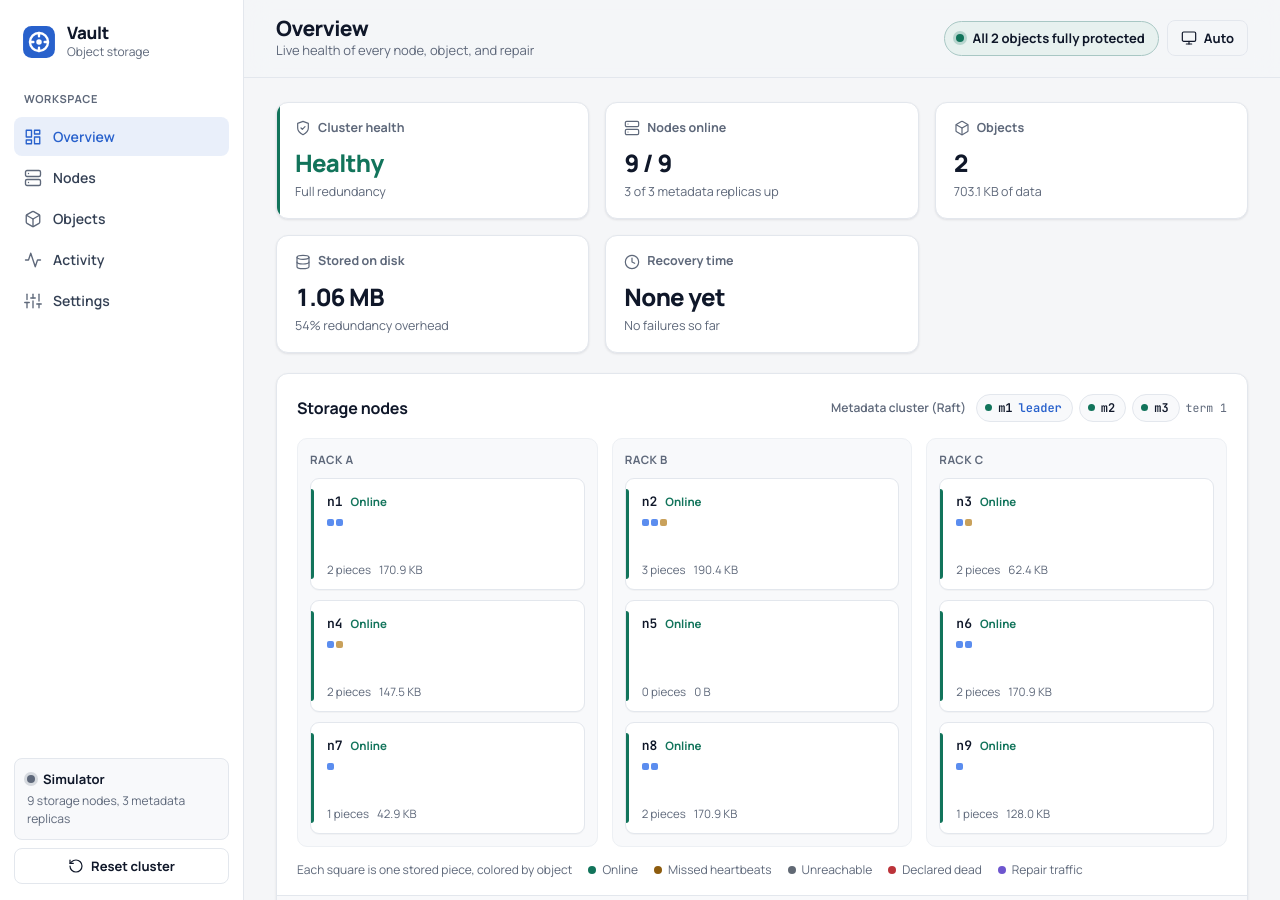
it: <App /> › losing two metadata nodes pauses writes and says so
The width and height of the screenshot is (1280, 900).
Click the button with aria-label "Metadata node m1" at (1024, 408), box [976,394,1073,422]
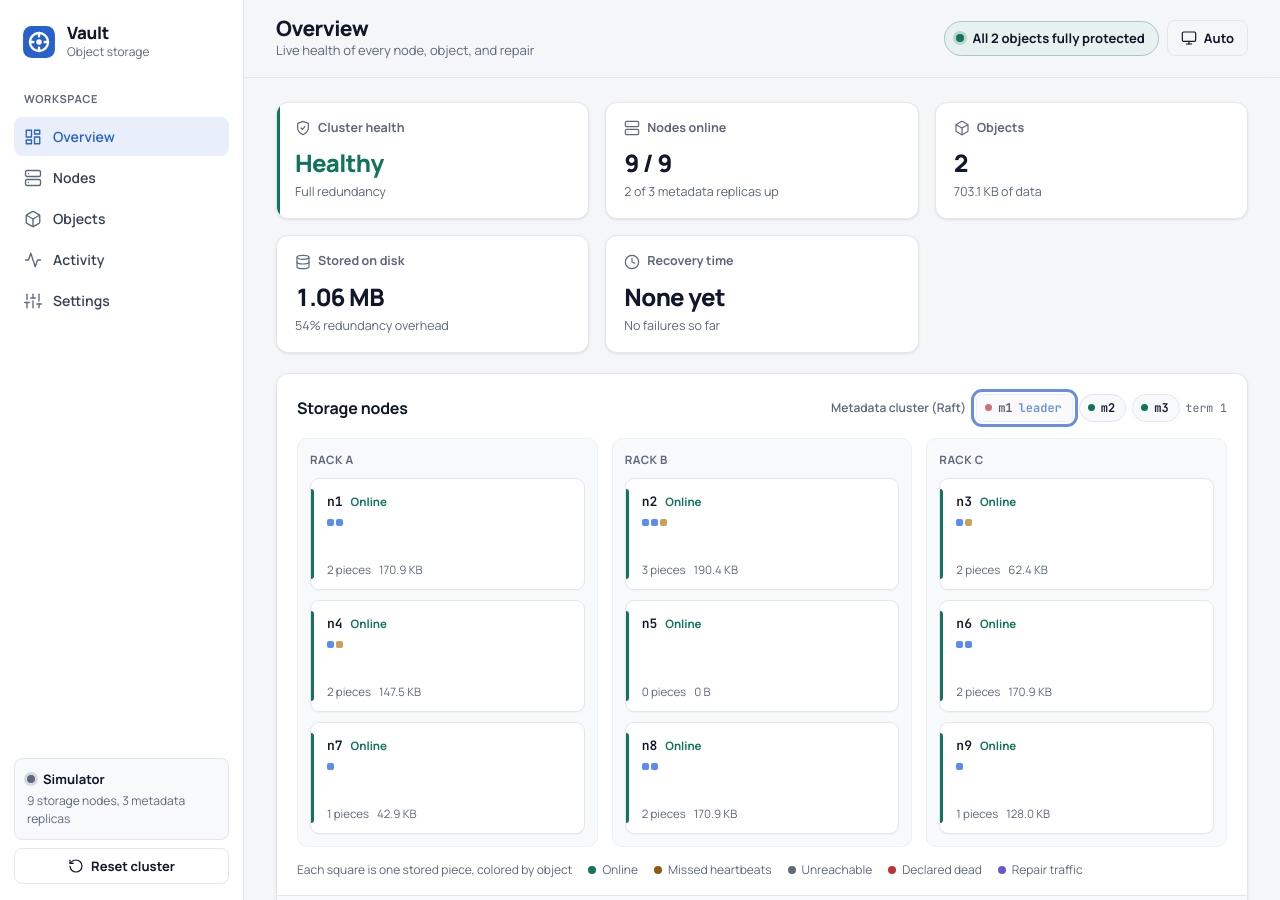
Click the button named "Metadata node m2" at (1102, 408), box [1079,394,1126,422]
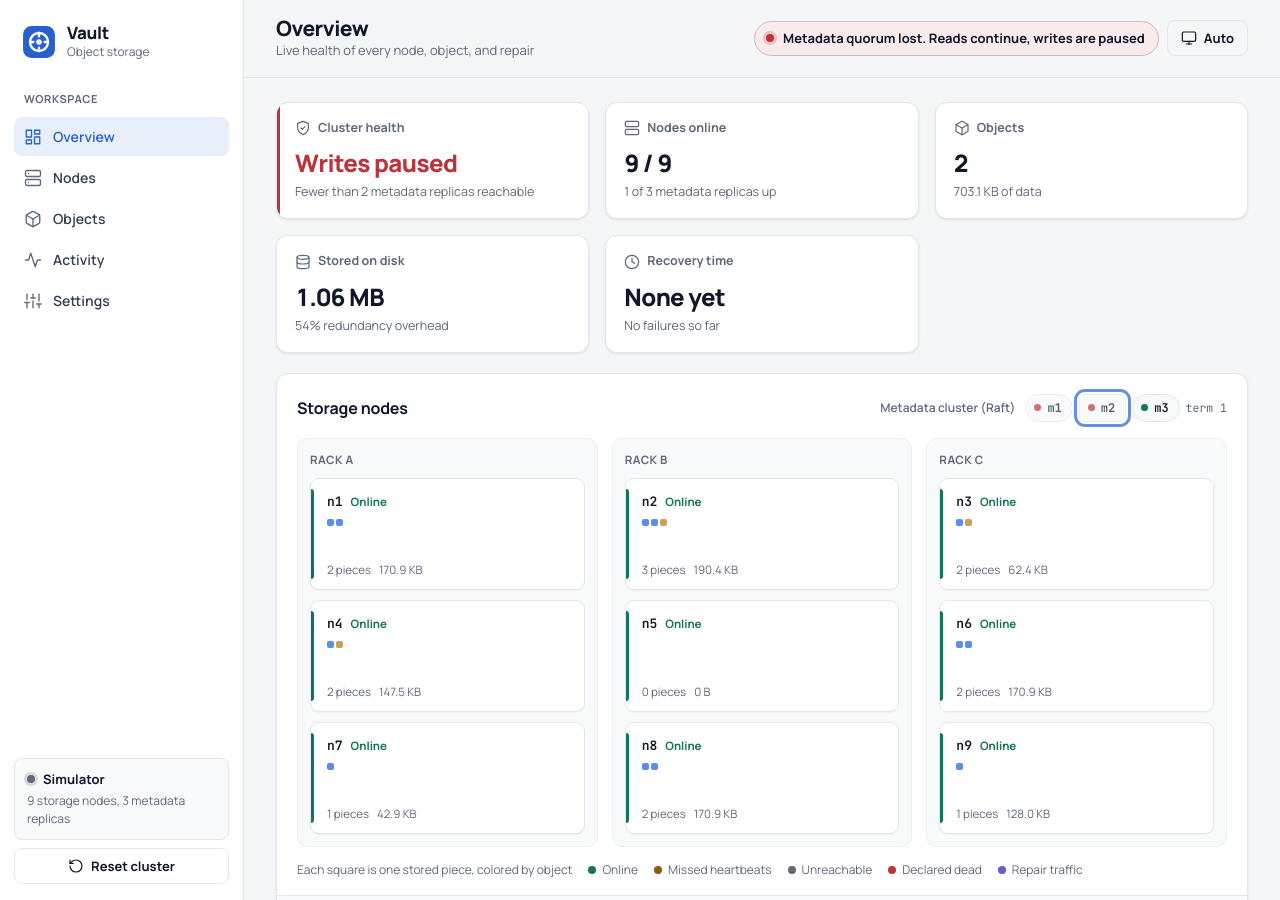
Expected: the text "Metadata quorum lost. Reads continue, writes are paused" is shown, [783,29,1145,48]
